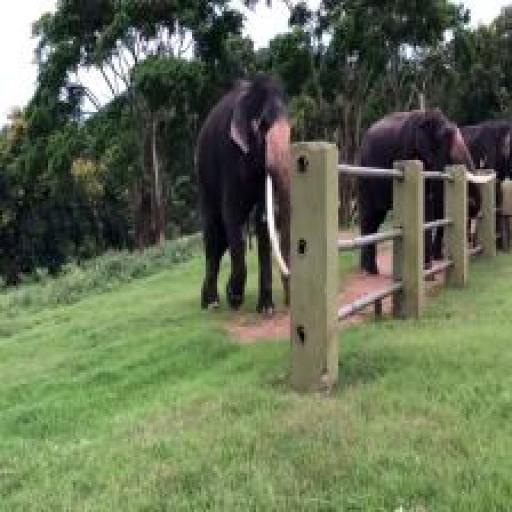Elephant: (190, 66, 290, 309), (352, 107, 470, 176)
